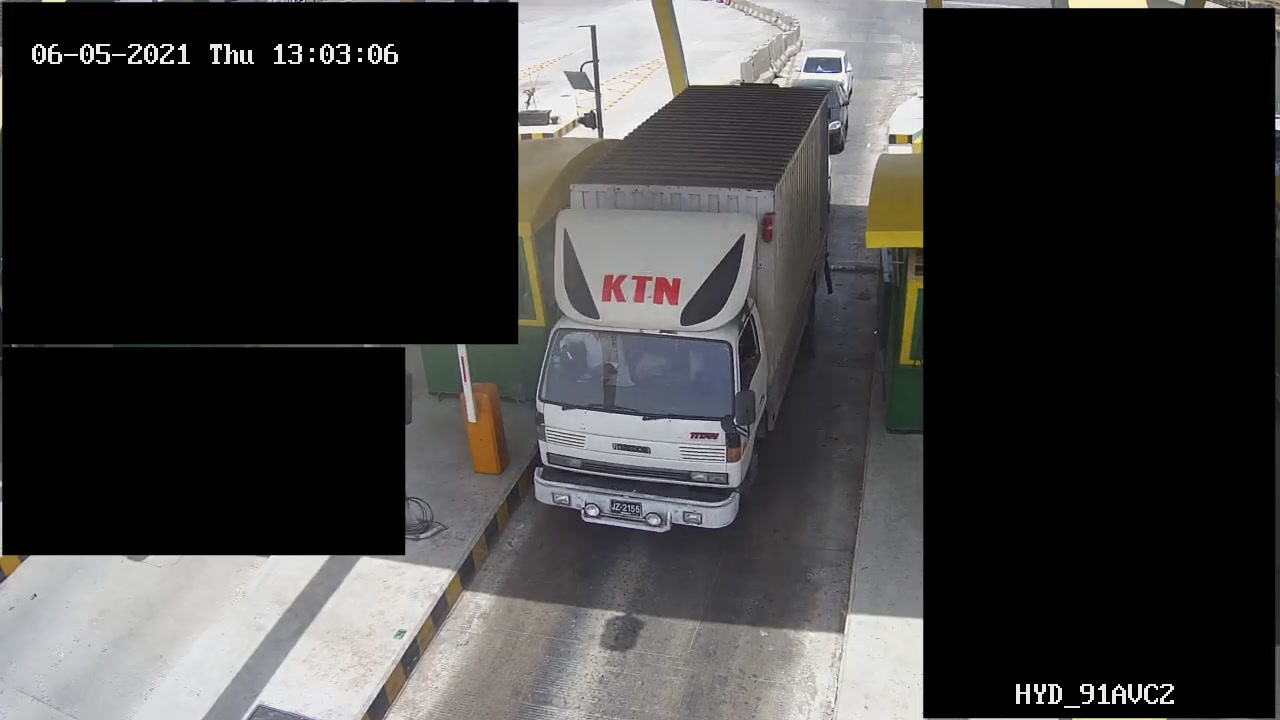F3: (531, 79, 832, 550)
